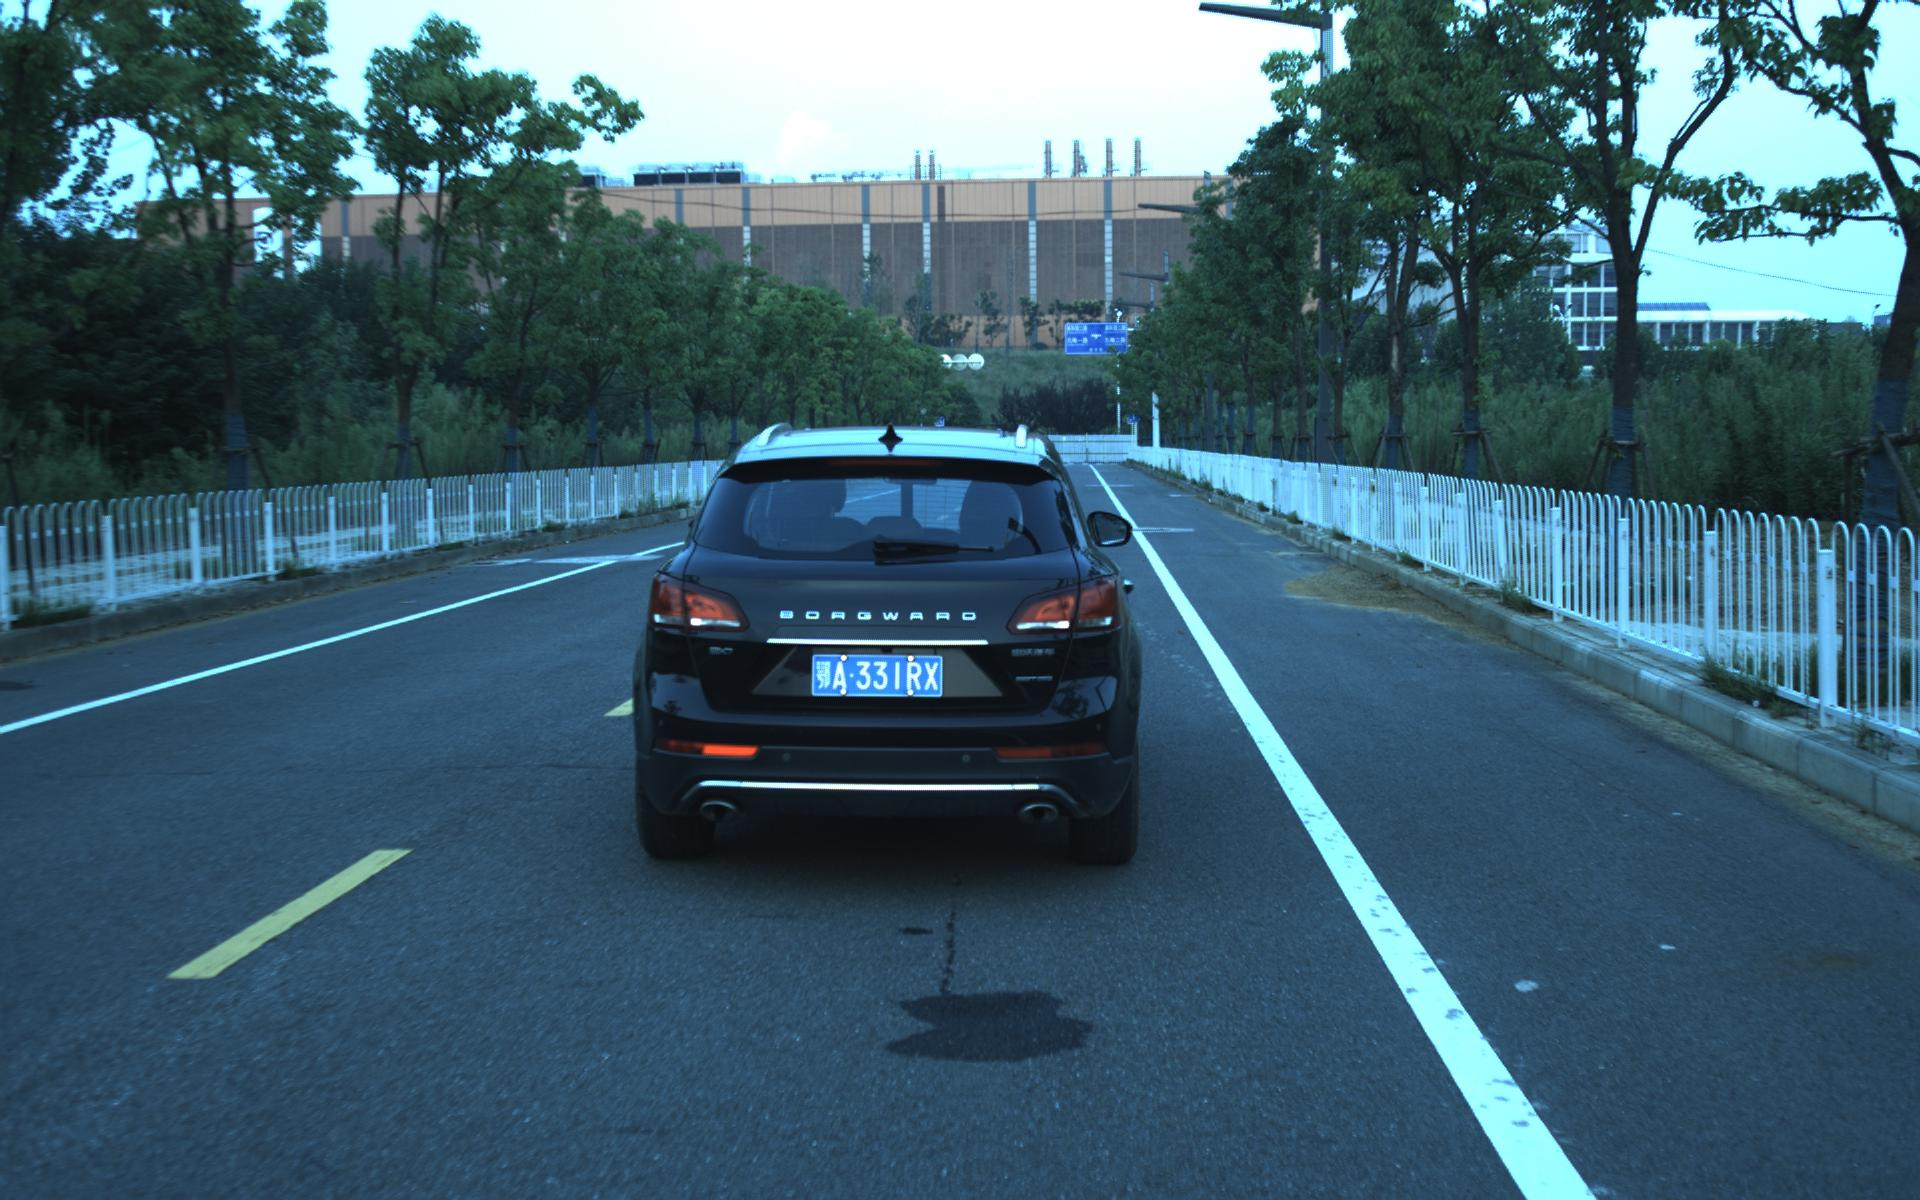Car: (615, 394, 1158, 883)
